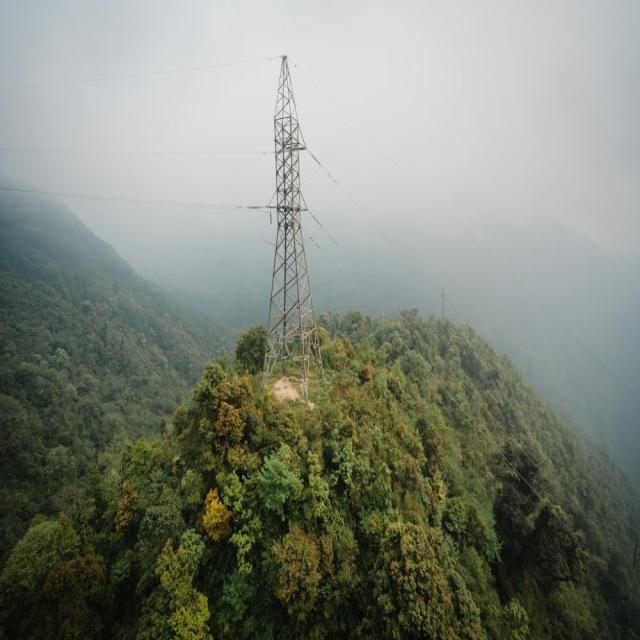transmission tower: (237, 52, 335, 414)
